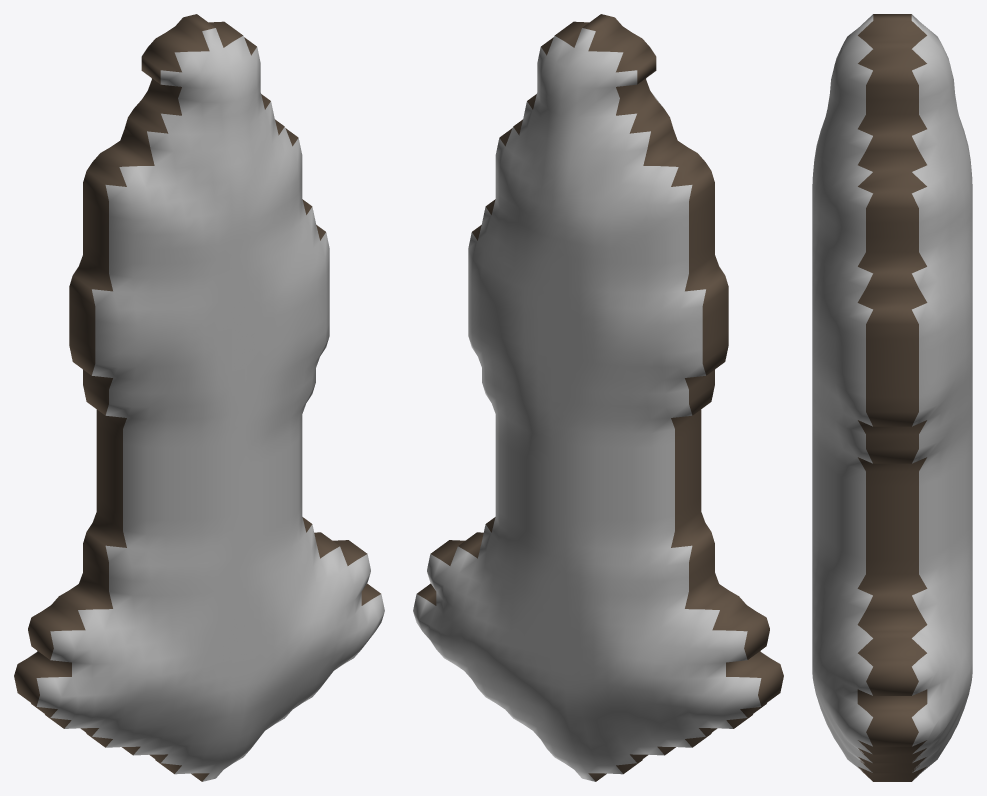
File: colossus.glb
3 renders of one model, left to right at view 1: azimuth 30°, elevation 25°; view 2: azimuth 150°, elevation 25°; view 3: azimuth 270°, elevation 25°, orthographic.
Visible parts, largest first — view 1: colossus; view 2: colossus; view 3: colossus.
Part boxes in pixels (x1,y1,x2,y2): colossus: (14, 14, 384, 781); colossus: (413, 14, 783, 781); colossus: (812, 14, 972, 781).
Bounding box in the file's own units: 2.88 × 6 × 1.15.
